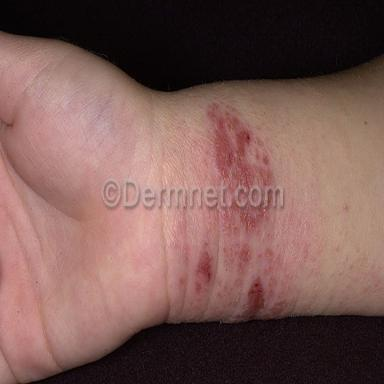eczema: (191, 207, 294, 321), (207, 100, 277, 186)
